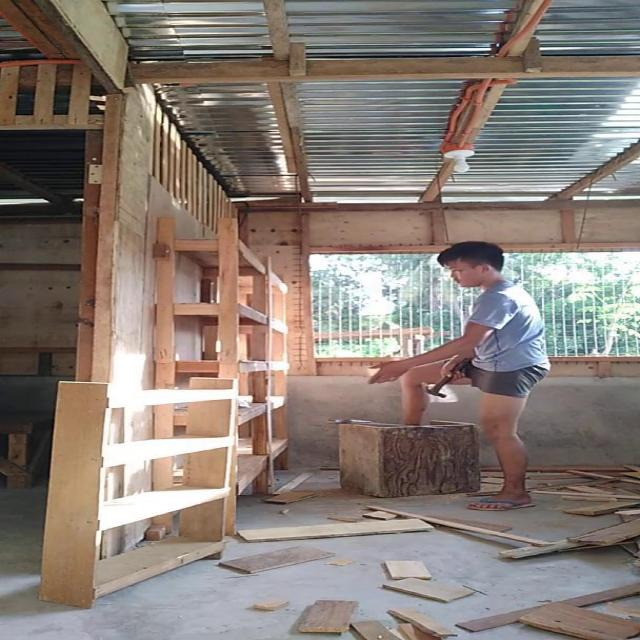hammer: (421, 358, 472, 398)
